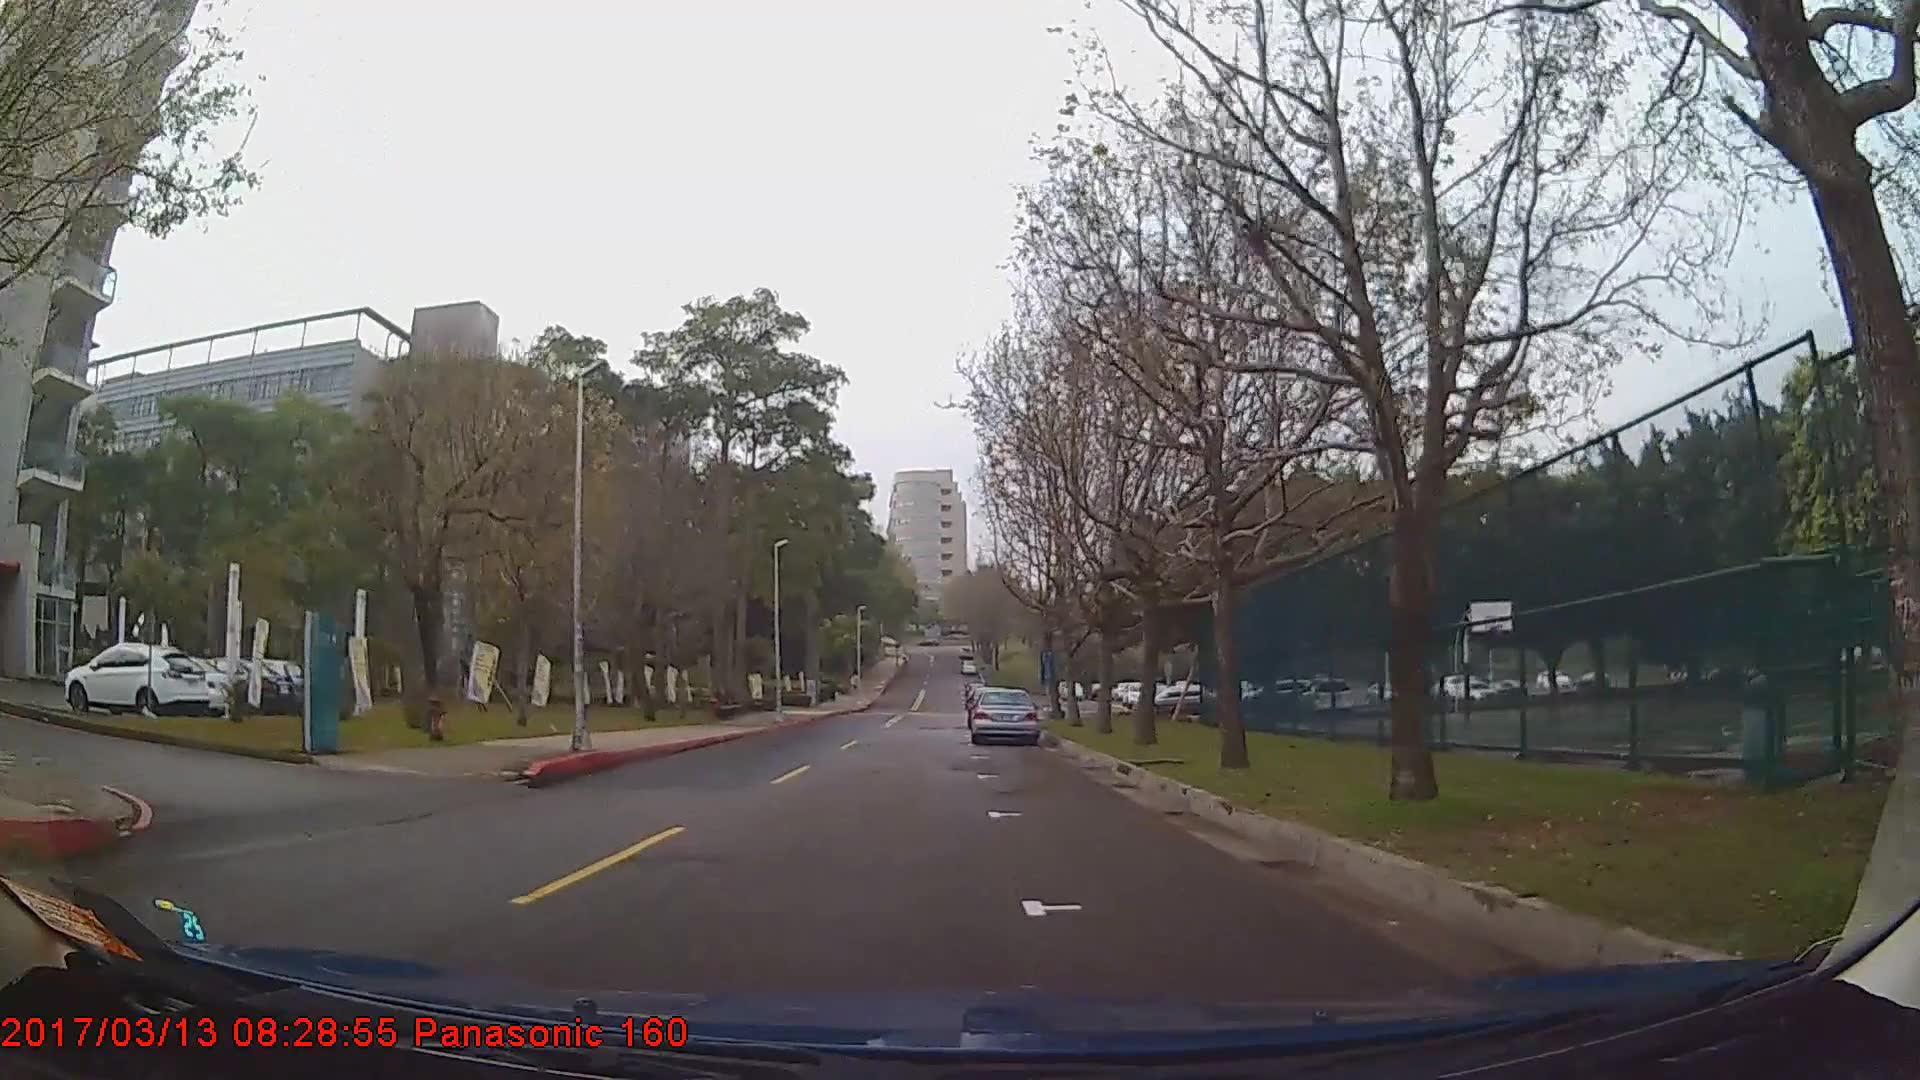vehicle: (62, 644, 208, 717), (113, 651, 239, 712), (971, 686, 1040, 745)
